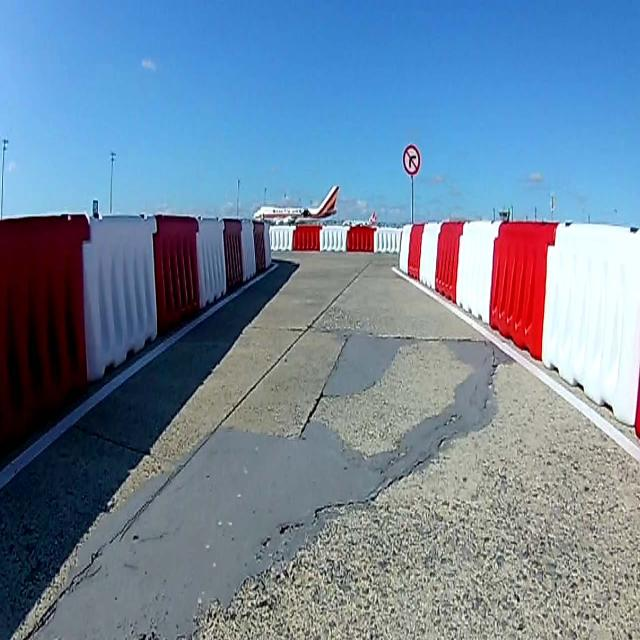sagadonulmez: (402, 143, 421, 177)
